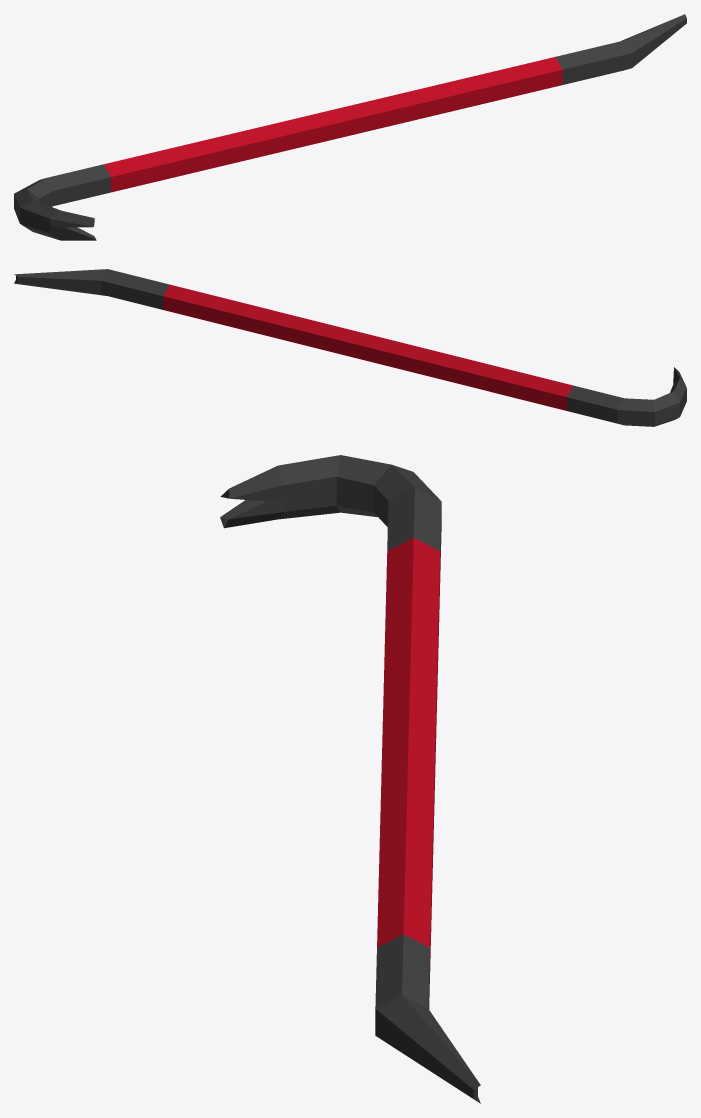
File: Crowbar.fbx
The picture shows the model from 3 angles, top to bottom: view 1: azimuth 30°, elevation 25°; view 2: azimuth 150°, elevation 25°; view 3: azimuth 270°, elevation 25°; orthographic projection. The views are drawn at different scales.
Visible parts, largest first — view 1: Cylinder; view 2: Cylinder; view 3: Cylinder.
Boxes of the visible parts, left/top/right/bottom form: Cylinder: left=14, top=14, right=686, bottom=240; Cylinder: left=14, top=269, right=686, bottom=426; Cylinder: left=220, top=455, right=480, bottom=1103.
Size of the model in its own units: 638 by 27.85 by 114.
